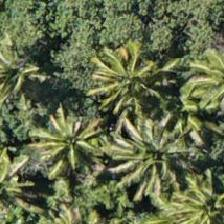coconut_tree: (22, 94, 112, 184), (84, 29, 174, 119), (112, 105, 202, 195), (0, 21, 56, 111), (0, 136, 45, 223), (172, 162, 223, 223)
